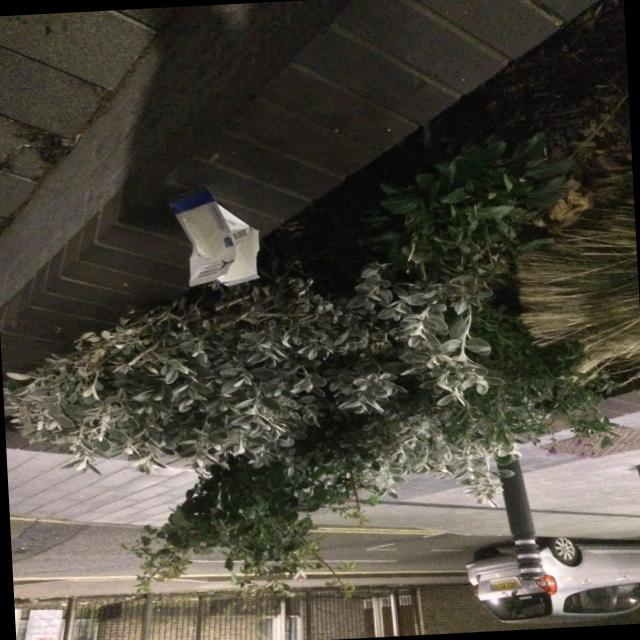less trash: (170, 191, 260, 287)
